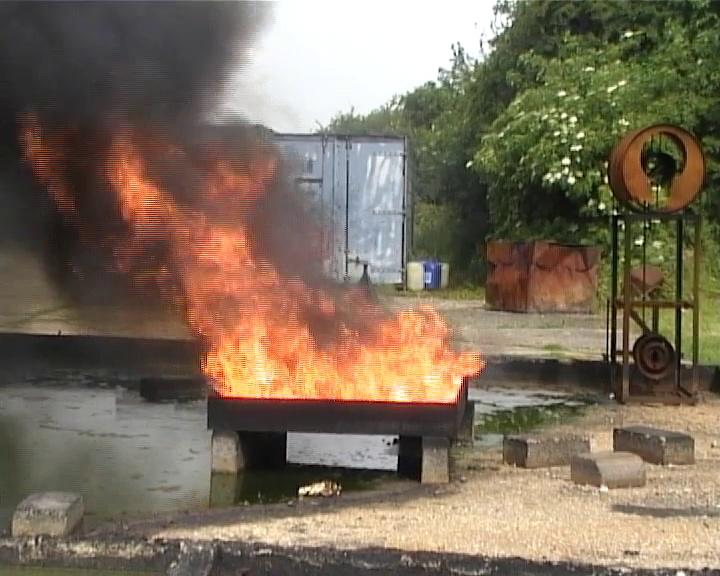fire: (111, 153, 480, 399)
